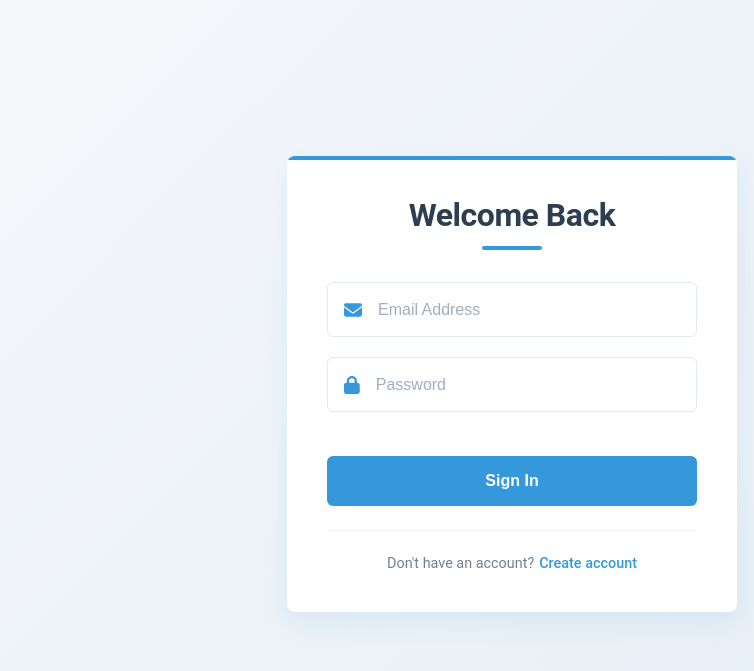
Scenario: Login Component › handles successful login
// Fill in the form
In the field with placeholder "Email Address": (537, 310) [378,283,696,336], type "test@example.com"
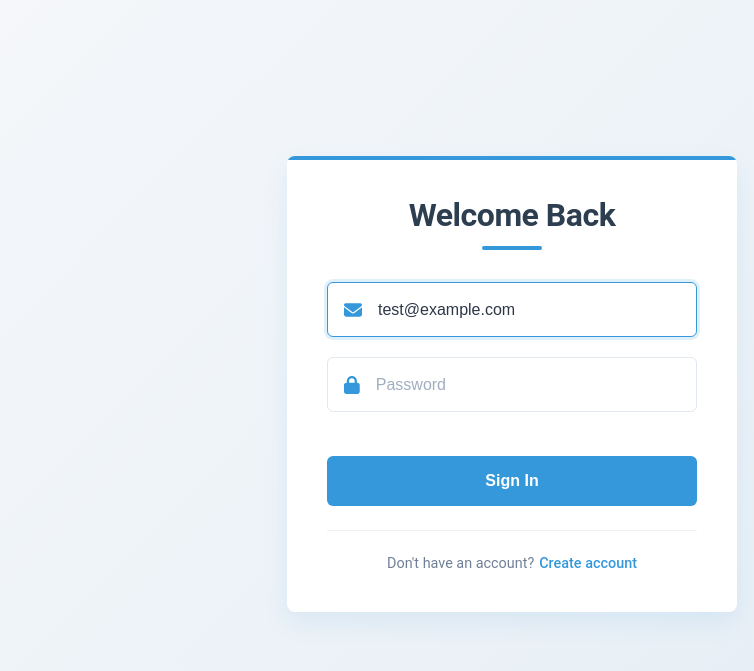
In the password field with placeholder "Password": (536, 384) [376,358,696,411], type "password123"
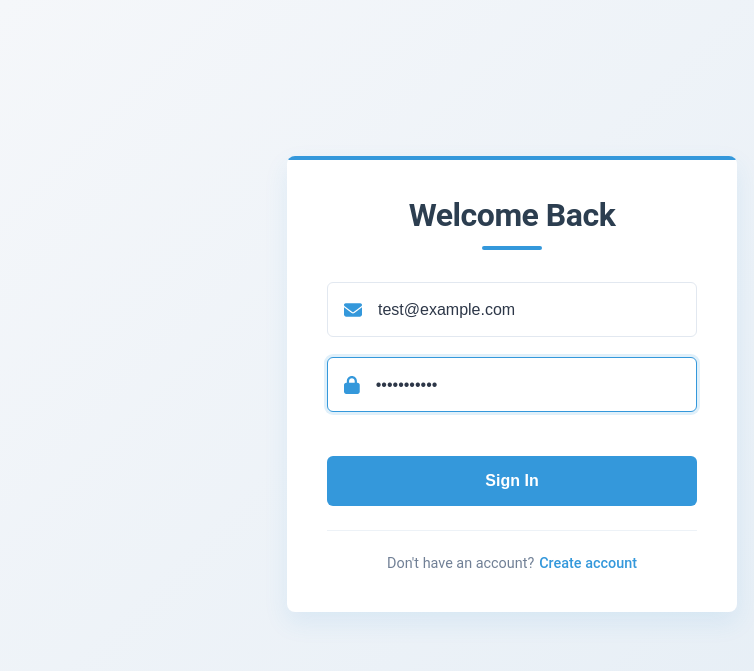
// Submit form
Click the button "Sign In": click(512, 481) [327,456,697,506]
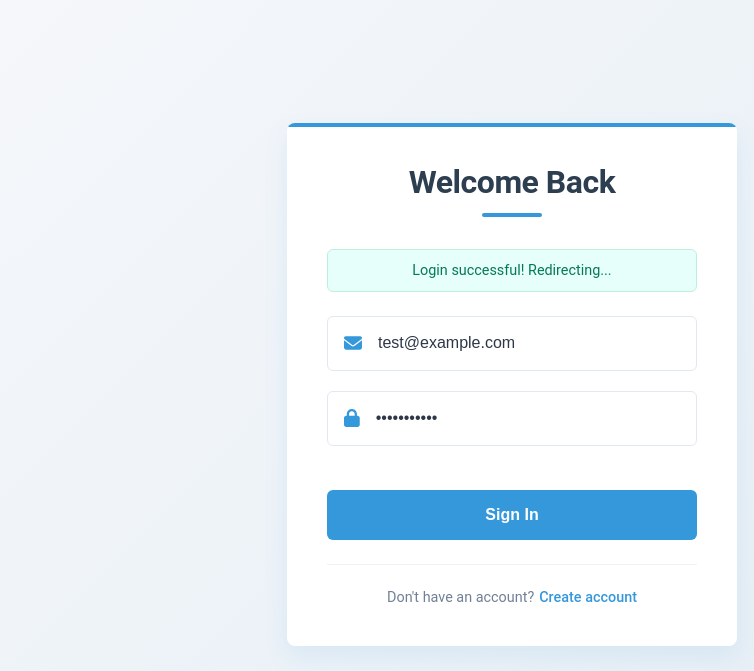
Now the text "Login successful! Redirecting..." is shown, box [327,248,697,292]
